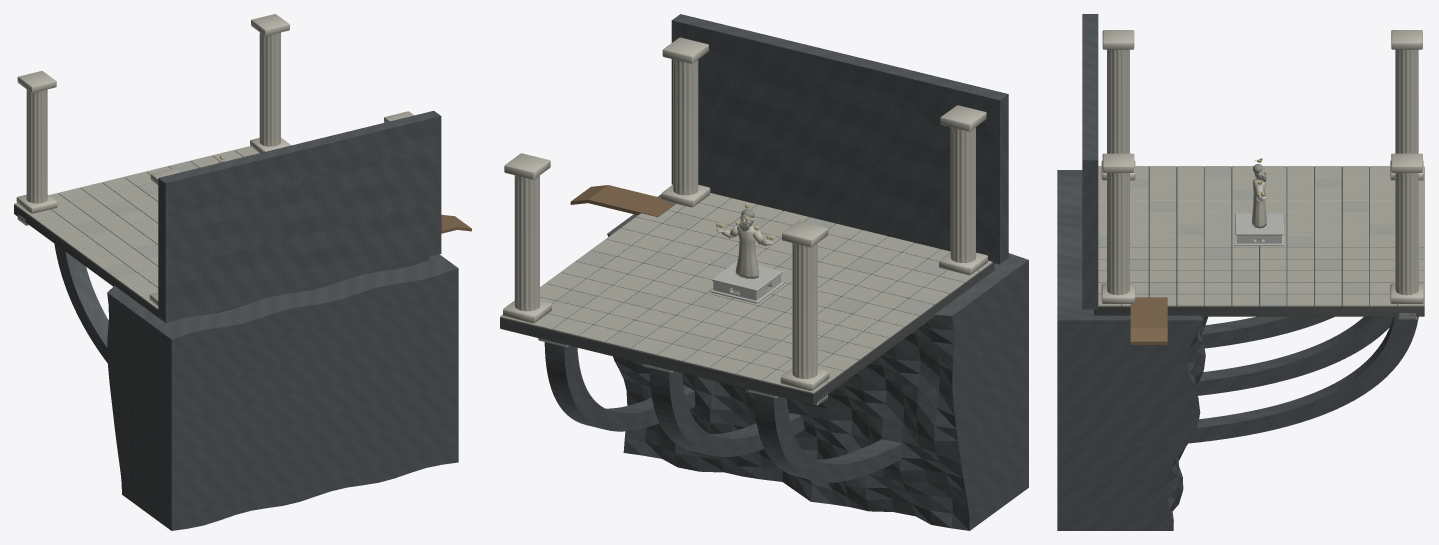
The model's file is retreat_r3_a5.glb.
3 views of the same model, side by side, from view 1: azimuth 30°, elevation 25°; view 2: azimuth 150°, elevation 25°; view 3: azimuth 270°, elevation 25° (orthographic). The views are drawn at different scales.
Parts seen in each view (by area): view 1: VTT_Cliff_Bounded_Anchor, CANON_North_Carved_Rock_Wall, CANON_Floor_Temple, CANON_Column_-4.12_-4.02, CANON_Column_4.12_-4.02, CANON_Arched_Support_-3; view 2: CANON_Floor_Temple, CANON_North_Carved_Rock_Wall, VTT_Cliff_Bounded_Anchor, CANON_Arched_Support_-3, CANON_Column_-4.12_-4.02, CANON_Column_-4.12_0.35, CANON_Column_4.12_0.35, CANON_Column_4.12_-4.02, CANON_Arched_Support_0, CANON_Arched_Support_3, CANON_Bahamut_Pedestal, CANON_Bahamut_Kind_Elder; view 3: CANON_Floor_Temple, VTT_Cliff_Bounded_Anchor, CANON_Arched_Support_3, CANON_North_Carved_Rock_Wall, CANON_Arched_Support_0, CANON_Column_4.12_-4.02, CANON_Column_4.12_0.35, CANON_Column_-4.12_-4.02, CANON_Column_-4.12_0.35, CANON_Arched_Support_-3, CANON_Bahamut_Pedestal, CANON_Bahamut_Kind_Elder.
Boxes of the visible parts, <box> form: VTT_Cliff_Bounded_Anchor: <box>107,254,458,530</box>; CANON_North_Carved_Rock_Wall: <box>158,111,441,320</box>; CANON_Floor_Temple: <box>14,146,429,322</box>; CANON_Column_-4.12_-4.02: <box>16,71,57,213</box>; CANON_Column_4.12_-4.02: <box>250,14,290,152</box>; CANON_Arched_Support_-3: <box>54,244,108,363</box>; CANON_Floor_Temple: <box>500,193,994,404</box>; CANON_North_Carved_Rock_Wall: <box>671,14,1008,264</box>; VTT_Cliff_Bounded_Anchor: <box>607,194,1028,530</box>; CANON_Arched_Support_-3: <box>748,389,902,482</box>; CANON_Column_-4.12_-4.02: <box>780,221,829,390</box>; CANON_Column_-4.12_0.35: <box>939,105,987,275</box>; CANON_Column_4.12_0.35: <box>661,37,710,207</box>; CANON_Column_4.12_-4.02: <box>503,153,551,323</box>; CANON_Arched_Support_0: <box>643,363,804,456</box>; CANON_Arched_Support_3: <box>538,338,695,431</box>; CANON_Bahamut_Pedestal: <box>710,260,784,303</box>; CANON_Bahamut_Kind_Elder: <box>716,209,773,278</box>; CANON_Floor_Temple: <box>1094,166,1424,316</box>; VTT_Cliff_Bounded_Anchor: <box>1057,170,1207,530</box>; CANON_Arched_Support_3: <box>1189,316,1418,443</box>; CANON_North_Carved_Rock_Wall: <box>1082,14,1098,309</box>; CANON_Arched_Support_0: <box>1195,316,1392,395</box>; CANON_Column_4.12_-4.02: <box>1390,153,1423,303</box>; CANON_Column_4.12_0.35: <box>1101,153,1135,303</box>; CANON_Column_-4.12_-4.02: <box>1390,30,1423,180</box>; CANON_Column_-4.12_0.35: <box>1101,30,1135,180</box>; CANON_Arched_Support_-3: <box>1201,316,1334,348</box>; CANON_Bahamut_Pedestal: <box>1234,213,1283,246</box>; CANON_Bahamut_Kind_Elder: <box>1252,164,1267,228</box>.
Size of the model in its own units: 17.08 by 16.62 by 15.
11 materials, 2 textured.
